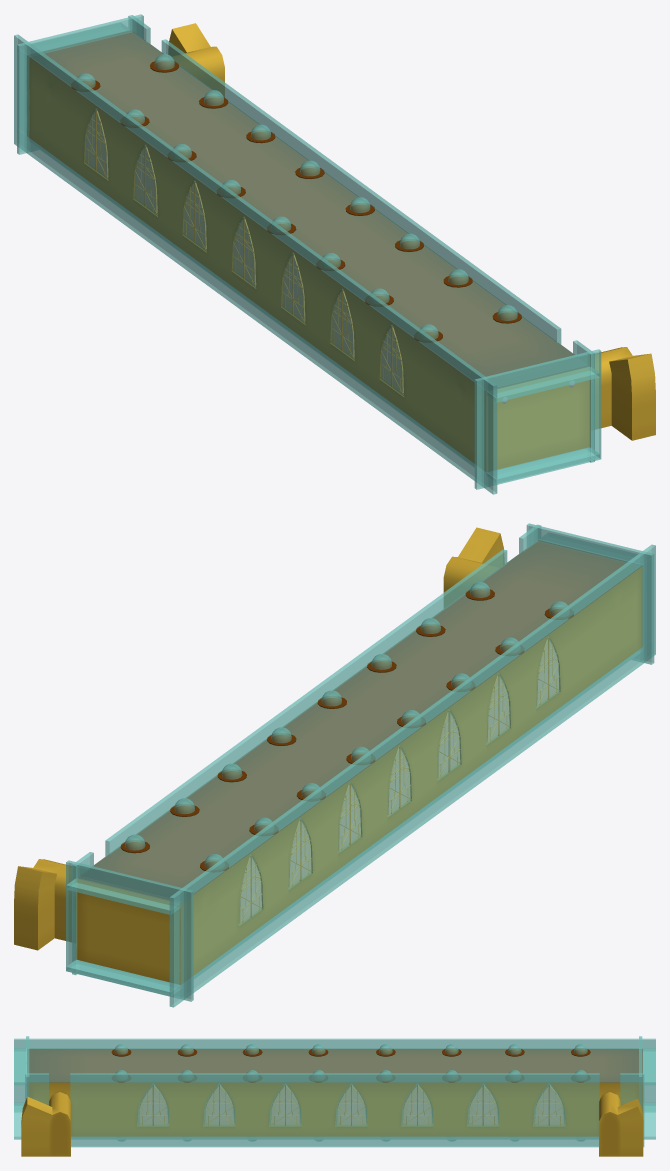
Rendered from FinalCorridor.glb.
3 renders of one model, top to bottom at view 1: azimuth 30°, elevation 25°; view 2: azimuth 150°, elevation 25°; view 3: azimuth 270°, elevation 25°, orthographic. The views are drawn at different scales.
Parts seen in each view (by area): view 1: Asset3DLoader.sceneRoot; view 2: Asset3DLoader.sceneRoot; view 3: Asset3DLoader.sceneRoot.
Part boxes in pixels (bbox=[...]): Asset3DLoader.sceneRoot: bbox=[14, 14, 655, 494]; Asset3DLoader.sceneRoot: bbox=[14, 523, 655, 1007]; Asset3DLoader.sceneRoot: bbox=[14, 1036, 655, 1156].
Bounding box in the file's own units: 33.85 × 20 × 160.
12 materials, 10 textured.
